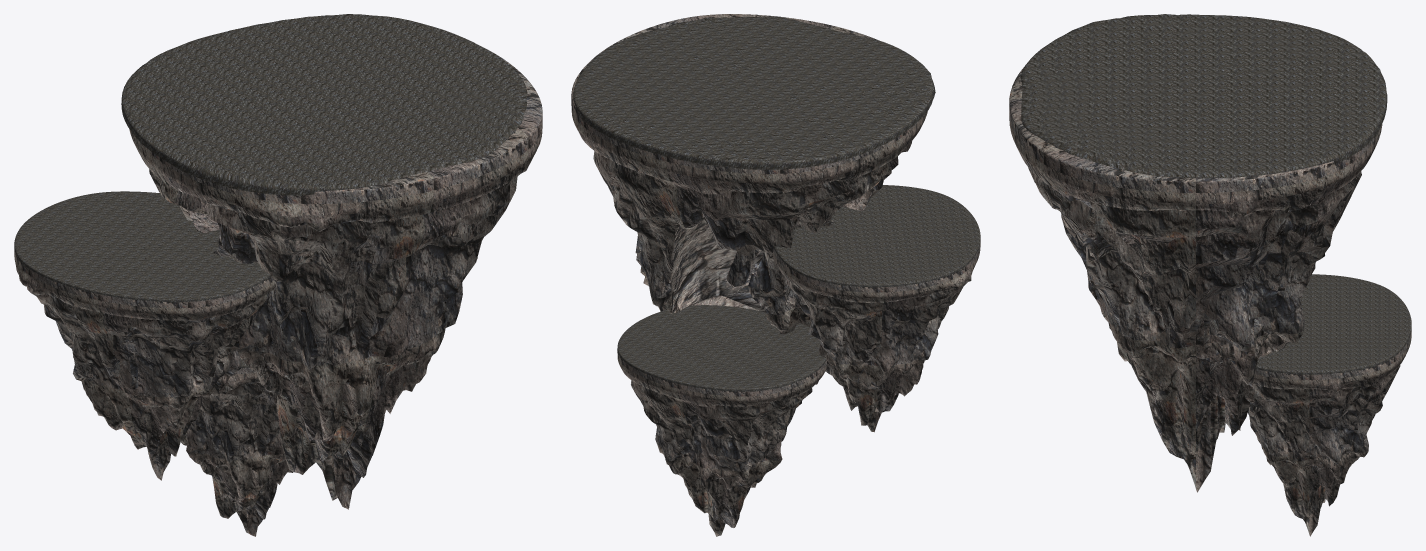
Rendered from floating_island_exp4.glb.
The picture shows the model from 3 angles, left to right: view 1: azimuth 30°, elevation 25°; view 2: azimuth 150°, elevation 25°; view 3: azimuth 270°, elevation 25°; orthographic projection. The views are drawn at different scales.
Visible parts, largest first — view 1: Object_7, Object_5, Object_4, Object_6, Object_3; view 2: Object_5, Object_7, Object_3, Object_4, Object_6, Object_2; view 3: Object_7, Object_5, Object_3, Object_2.
Part boxes in pixels (x1,y1,x2,y2): Object_7: (129, 47, 542, 509); Object_5: (121, 14, 527, 195); Object_4: (14, 249, 275, 480); Object_6: (14, 191, 271, 302); Object_3: (181, 368, 292, 536); Object_5: (573, 16, 935, 169); Object_7: (571, 14, 927, 334); Object_3: (617, 350, 827, 536); Object_4: (772, 240, 980, 432); Object_6: (773, 185, 980, 287); Object_2: (617, 305, 826, 391); Object_7: (1009, 67, 1382, 492); Object_5: (1021, 14, 1387, 178); Object_3: (1242, 330, 1411, 536); Object_2: (1255, 274, 1411, 374).
Bounding box in the file's own units: 61.24 × 61.64 × 49.6.
Materials: 6 (6 with a texture image).
